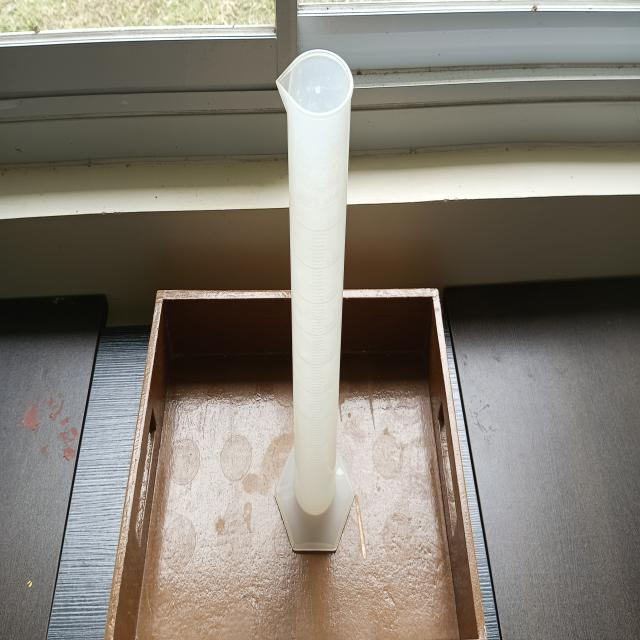graduated_cylinder: (270, 45, 361, 558)
